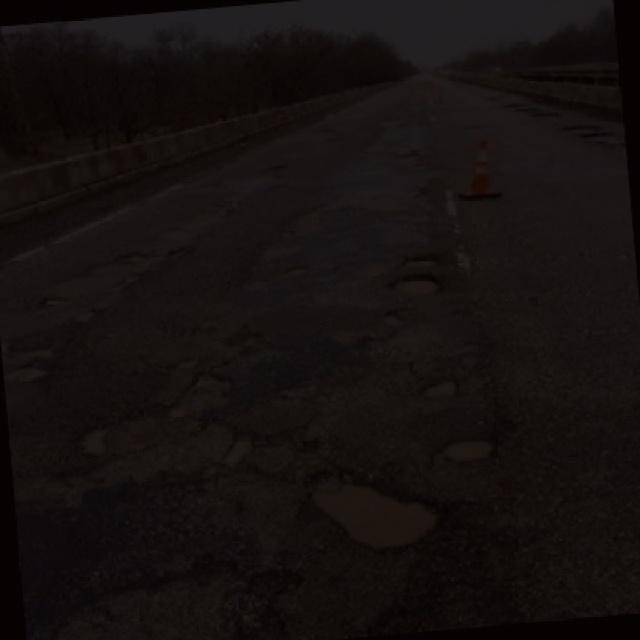Pothole: (297, 453, 454, 562), (242, 261, 324, 305), (8, 338, 71, 395), (432, 436, 511, 472), (558, 118, 635, 154), (119, 242, 201, 272), (422, 372, 469, 413), (186, 361, 236, 394), (220, 425, 258, 468), (396, 268, 444, 300), (505, 95, 557, 122), (75, 427, 111, 458), (398, 249, 440, 273), (158, 399, 198, 424), (40, 290, 72, 311)
